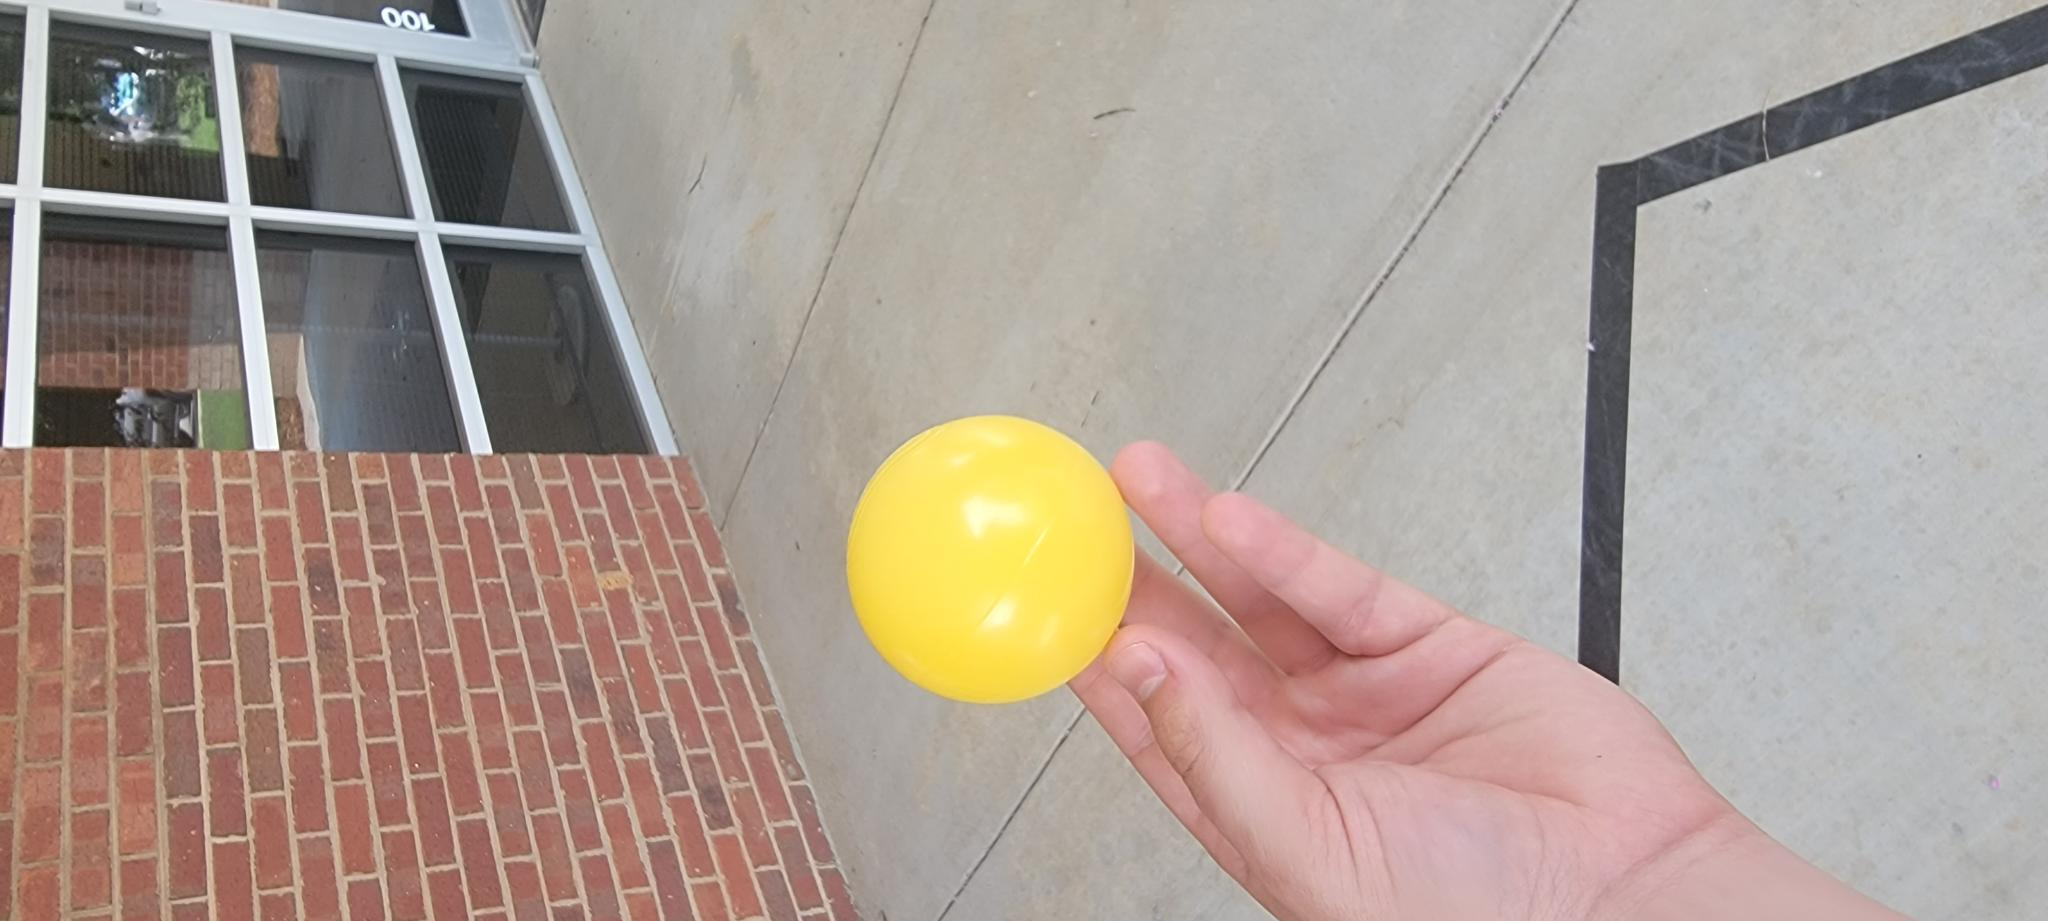Yellow-Ball: (219, 848, 507, 921)
